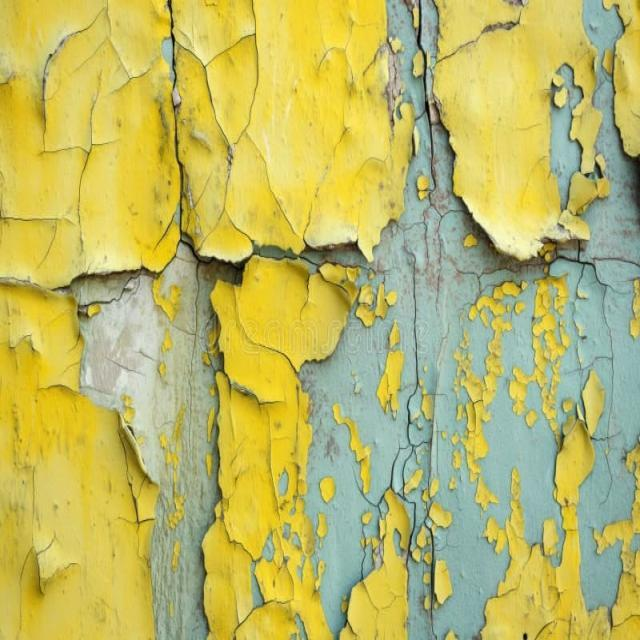Paint peeling: (35, 0, 638, 638)
